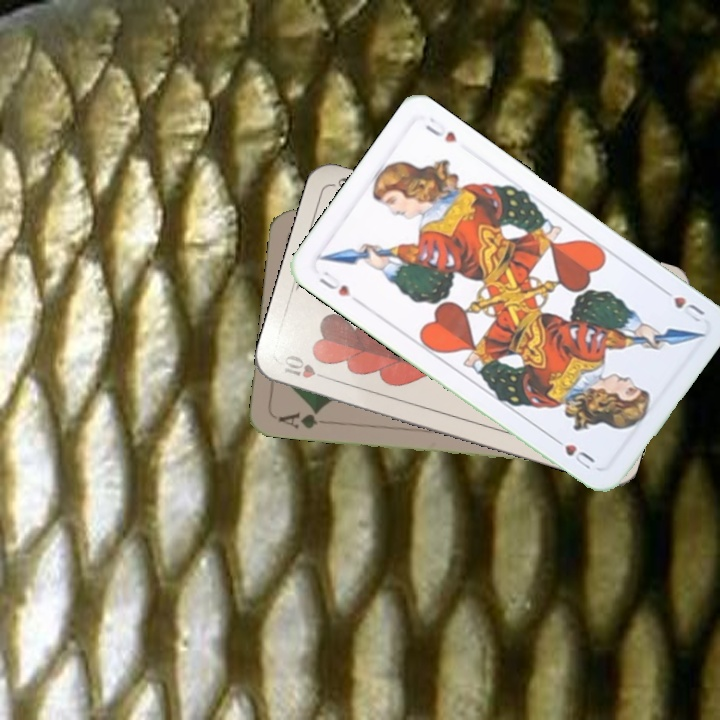GA: (275, 406, 332, 432)
H10: (277, 351, 335, 384)
HU: (656, 283, 707, 326), (315, 266, 363, 306)
